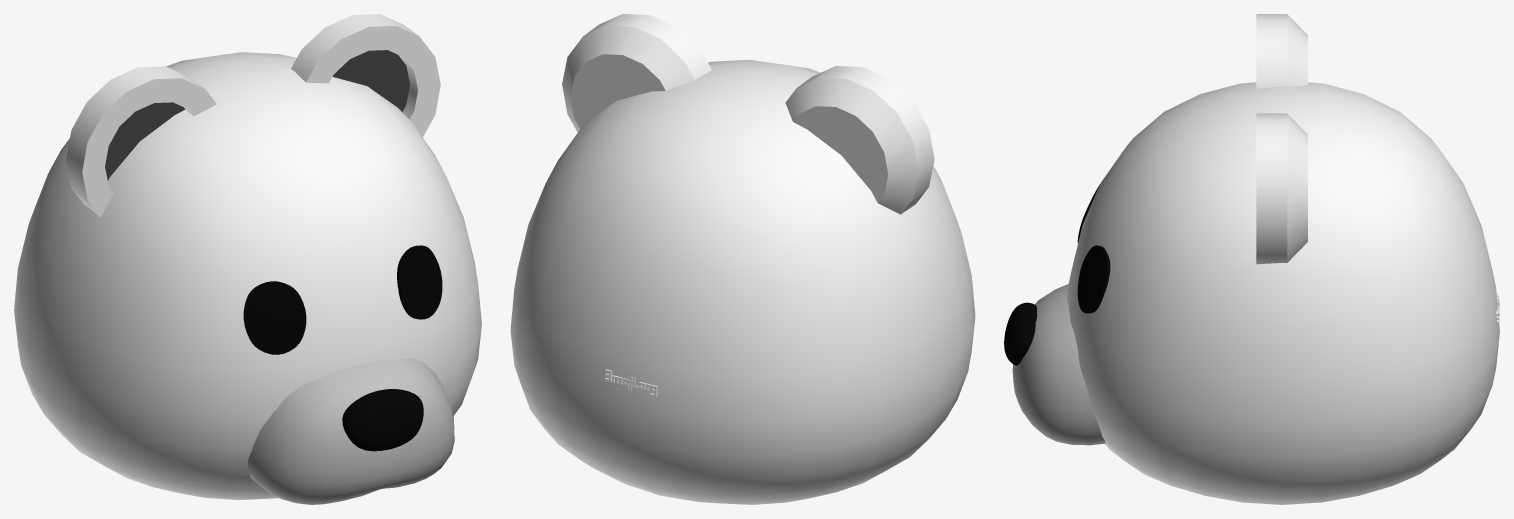
Rendered from polar_bear.glb.
The picture shows the model from 3 angles, left to right: view 1: azimuth 30°, elevation 25°; view 2: azimuth 150°, elevation 25°; view 3: azimuth 270°, elevation 25°; orthographic projection. The views are drawn at different scales.
Visible parts, largest first — view 1: Cube.6256, Cylinder.364, Cube.6257, Circle.1926, Cube.6259; view 2: Cube.6256, Cylinder.364; view 3: Cube.6256, Cylinder.364, Cube.6257, Circle.1926, Cube.6259.
Part boxes in pixels (x1,y1,x2,y2): Cube.6256: (14, 52, 481, 500); Cylinder.364: (66, 14, 440, 216); Cube.6257: (247, 358, 454, 504); Circle.1926: (243, 245, 442, 354); Cube.6259: (342, 389, 423, 451); Cube.6256: (510, 59, 975, 504); Cylinder.364: (562, 14, 934, 214); Cube.6256: (1067, 82, 1499, 504); Cylinder.364: (1256, 14, 1307, 264); Cube.6257: (1012, 284, 1105, 445); Circle.1926: (1077, 184, 1110, 313); Cube.6259: (1004, 302, 1037, 365).
Size of the model in its own units: 2.41 by 2.41 by 2.75.
1 material, 1 textured.
